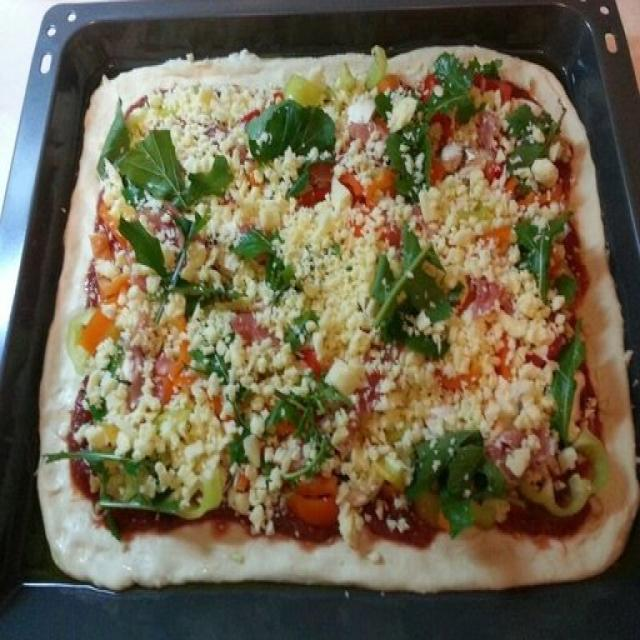Pizza: (35, 47, 640, 593)
Rucola: (98, 99, 232, 212), (47, 447, 175, 523), (121, 212, 230, 301), (242, 101, 332, 196), (261, 381, 350, 474), (398, 68, 467, 187), (408, 440, 499, 528), (369, 235, 438, 344), (523, 220, 574, 304), (241, 229, 301, 290), (509, 102, 553, 177), (553, 342, 582, 443)
